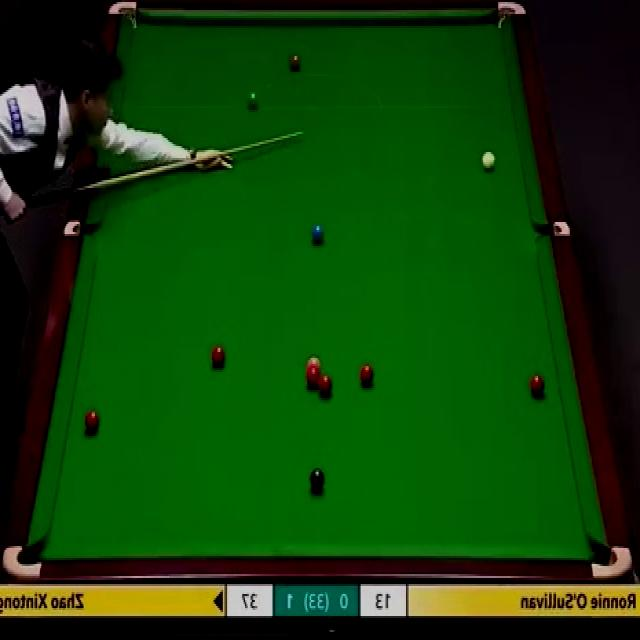black-ball: (310, 468, 325, 492)
blue-ball: (310, 224, 324, 247)
brown-ball: (289, 53, 302, 70)
green-ball: (247, 89, 260, 110)
pink-ball: (305, 354, 322, 372)
red-ball: (83, 408, 100, 435), (211, 342, 227, 368), (359, 363, 375, 387), (318, 375, 332, 397), (530, 374, 544, 395), (306, 370, 322, 387)
white-ball: (482, 149, 497, 170)
